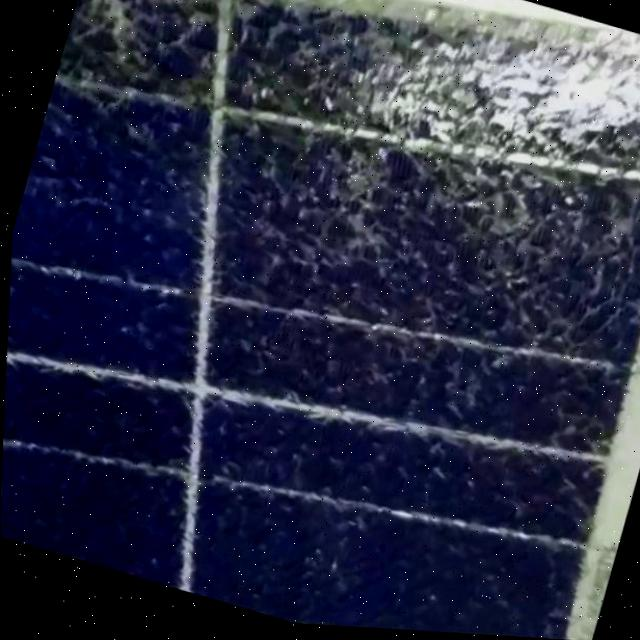Anomaly Solar Panel: (0, 0, 640, 640)
Structural Damage: (208, 0, 640, 343), (33, 0, 247, 195)
